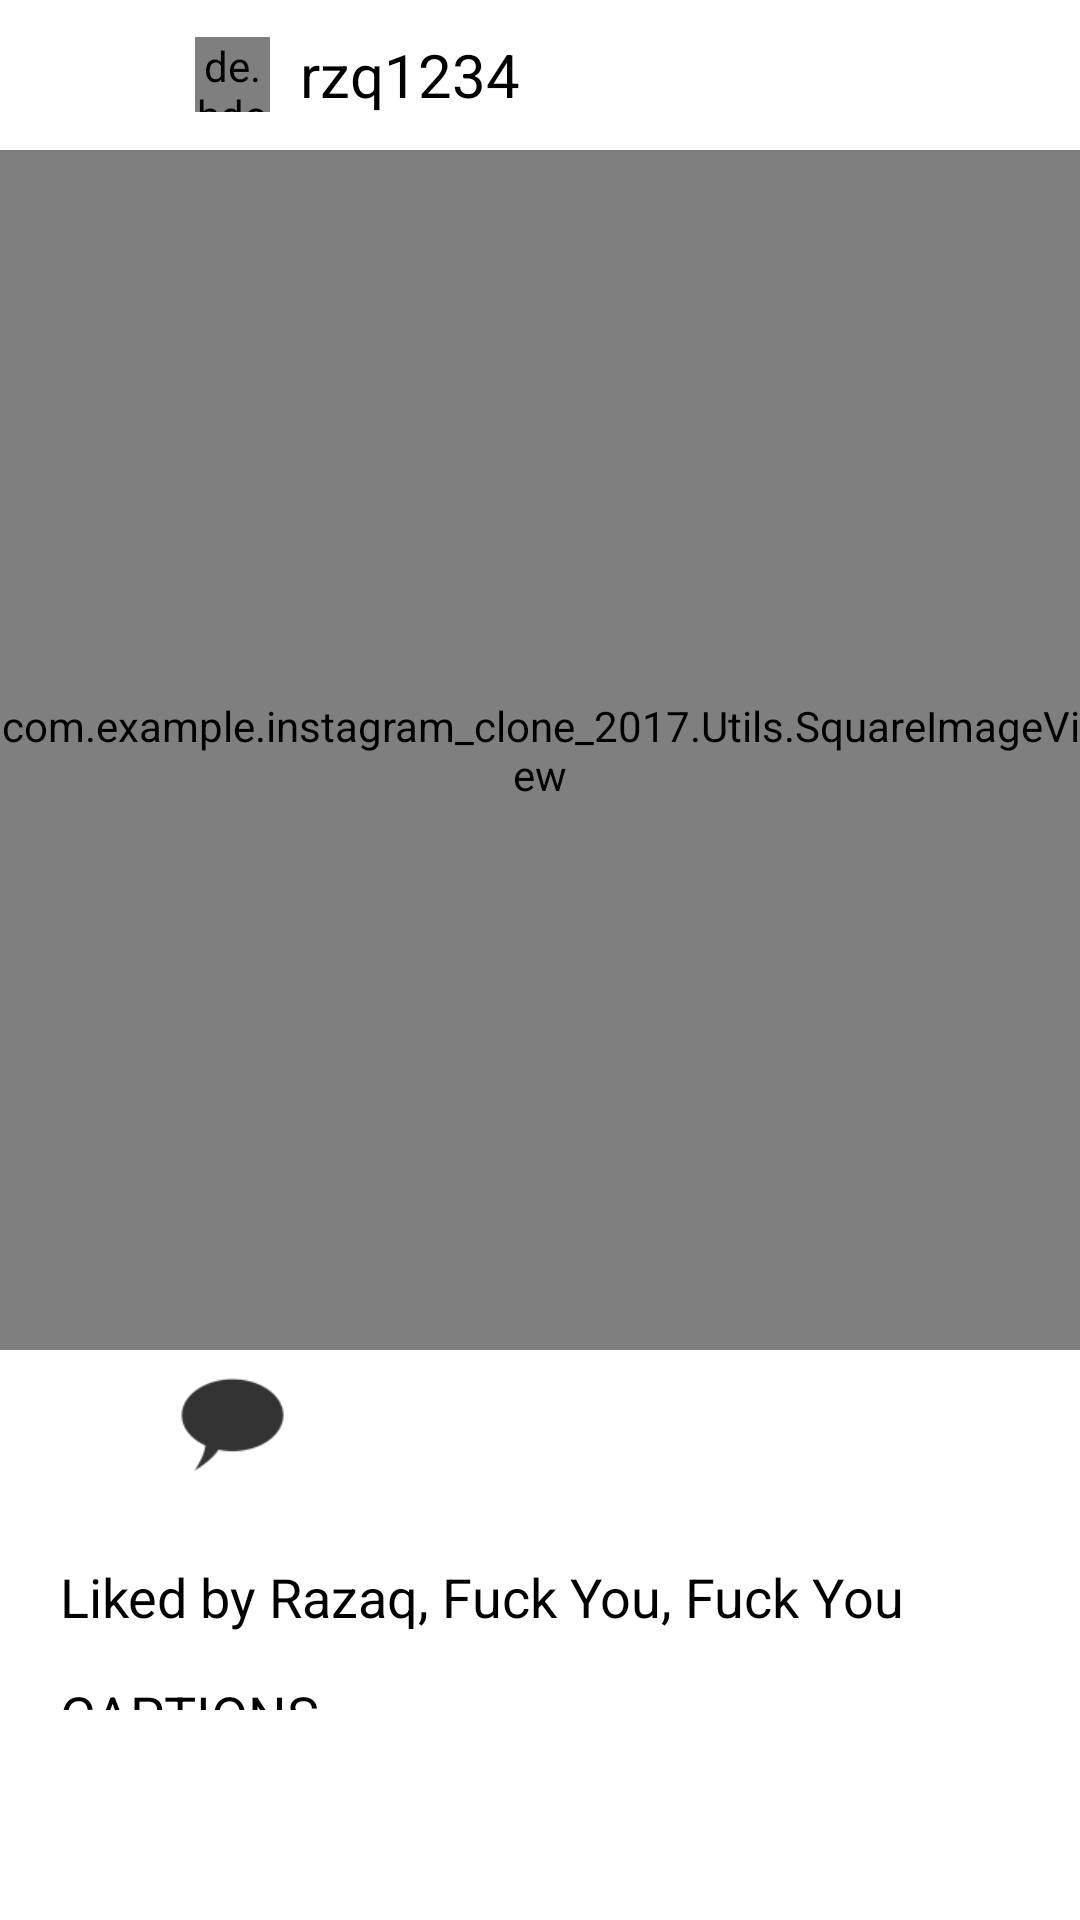

Where icons sit on this 1080px×1920px app screen, as (x1, y1, x2, y2):
speech buble: (181, 1378, 284, 1471)
